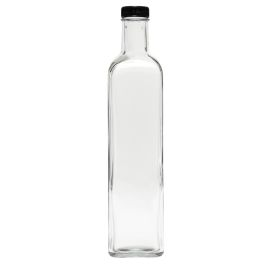glass_bottle: (100, 3, 171, 261)
